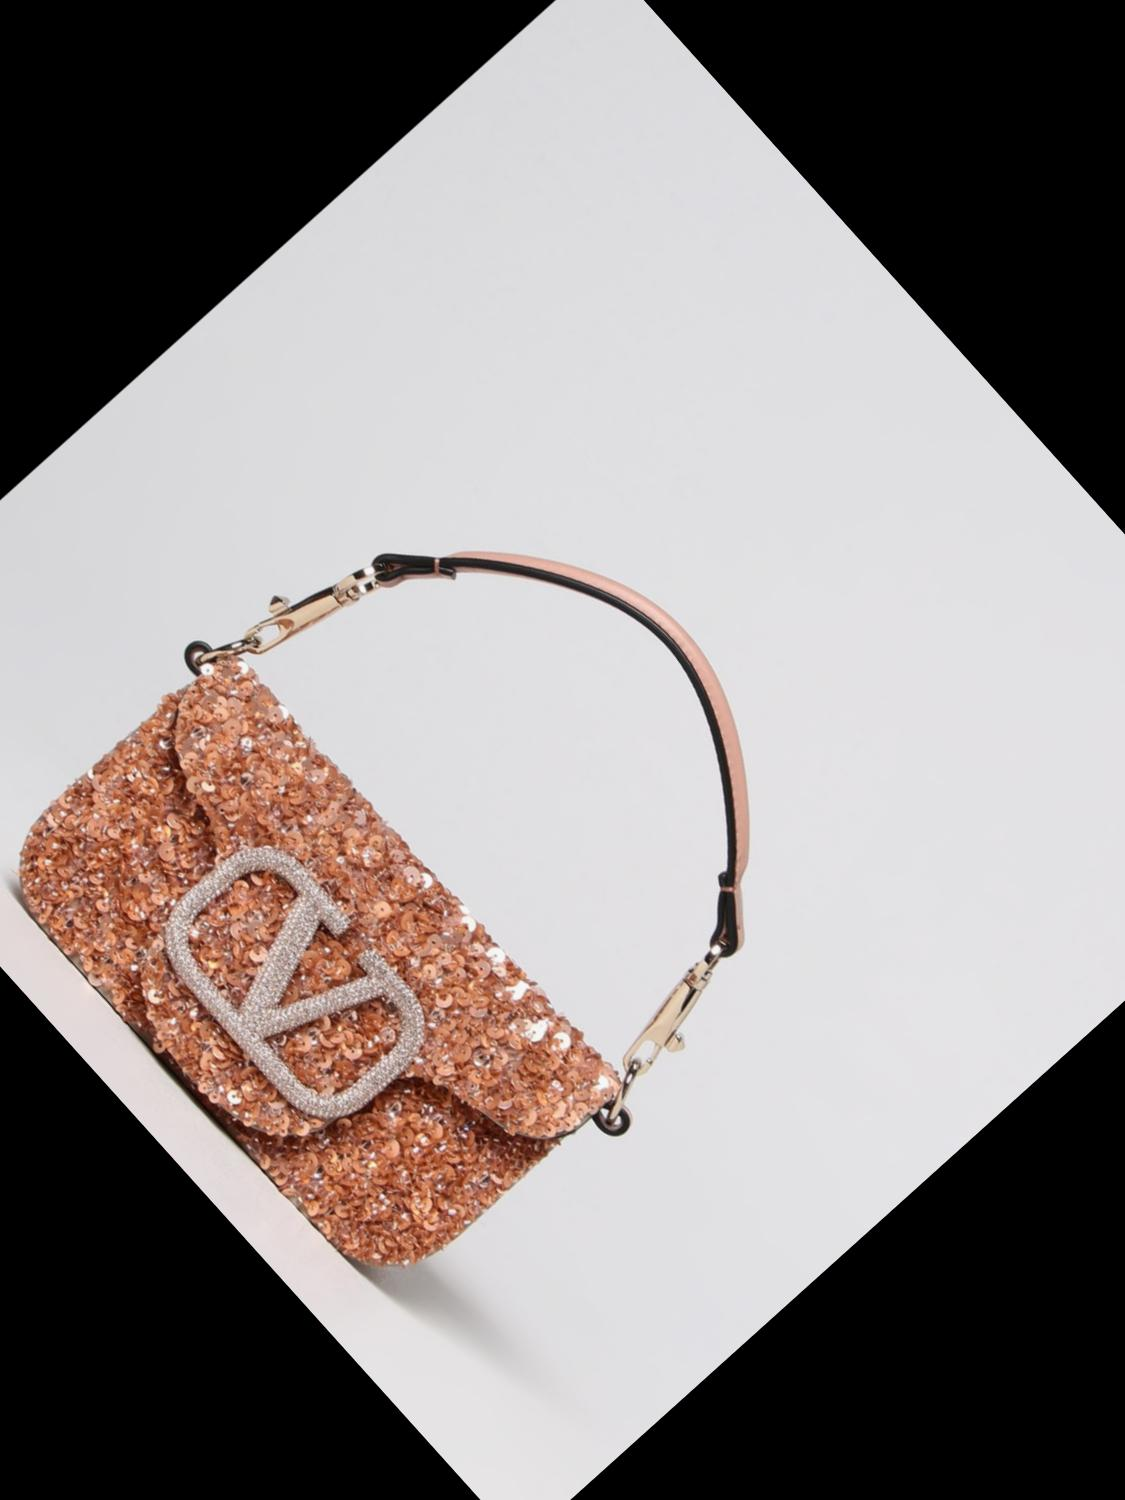VALENTINO: (139, 824, 449, 1143)
